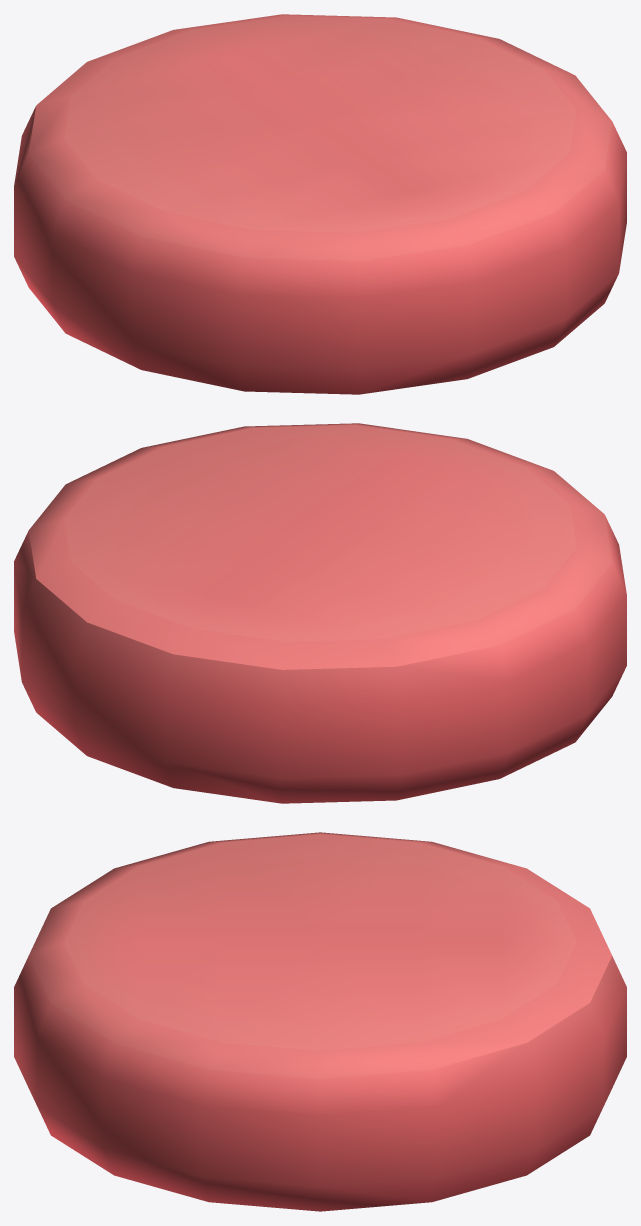
Rendered from Burger patty.glb.
The picture shows the model from 3 angles, top to bottom: view 1: azimuth 30°, elevation 25°; view 2: azimuth 150°, elevation 25°; view 3: azimuth 270°, elevation 25°; orthographic projection.
Visible parts, largest first — view 1: food_ingredient_burger_uncooked; view 2: food_ingredient_burger_uncooked; view 3: food_ingredient_burger_uncooked.
Part boxes in pixels (x1,y1,x2,y2): food_ingredient_burger_uncooked: (14, 14, 626, 394); food_ingredient_burger_uncooked: (14, 423, 626, 803); food_ingredient_burger_uncooked: (14, 832, 626, 1211).
Size of the model in its own units: 0.7 by 0.2 by 0.7.
Materials: 1 (1 with a texture image).
